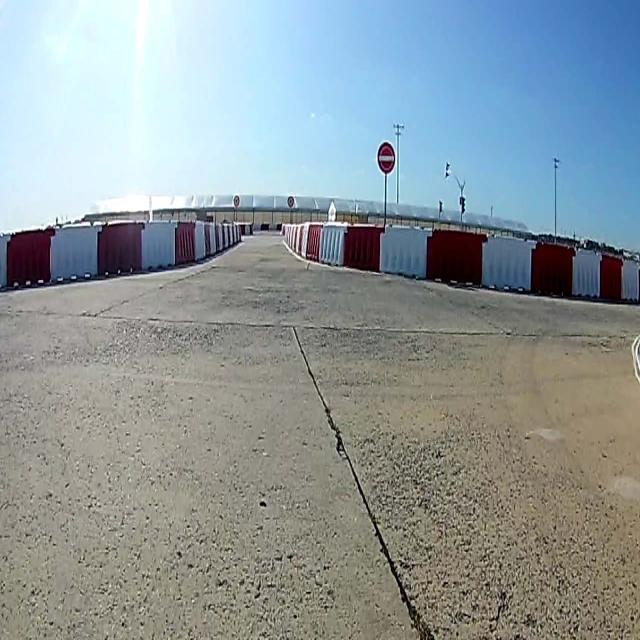girisyok: (379, 145, 394, 171)
